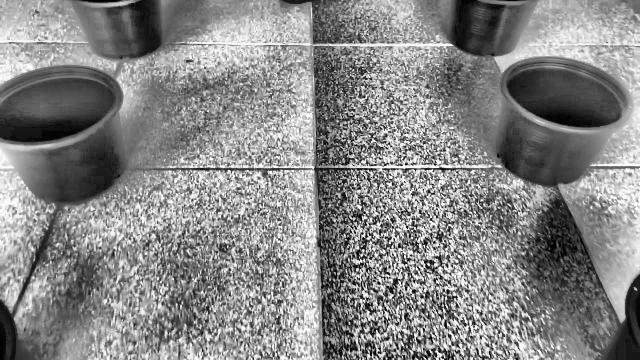pot: (497, 56, 634, 185), (0, 66, 128, 204)
